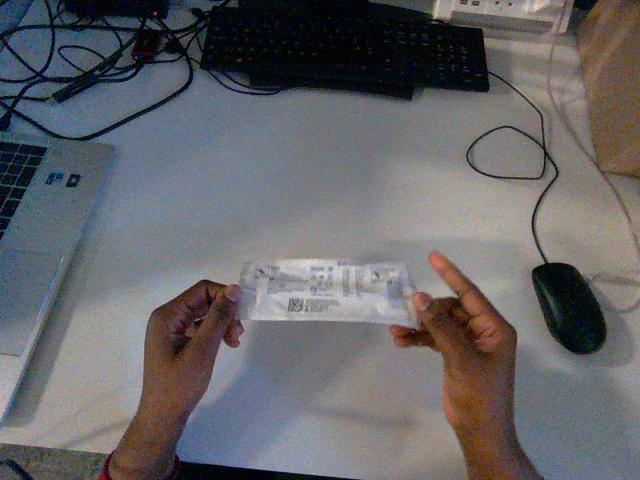syringe: (238, 259, 415, 326)
